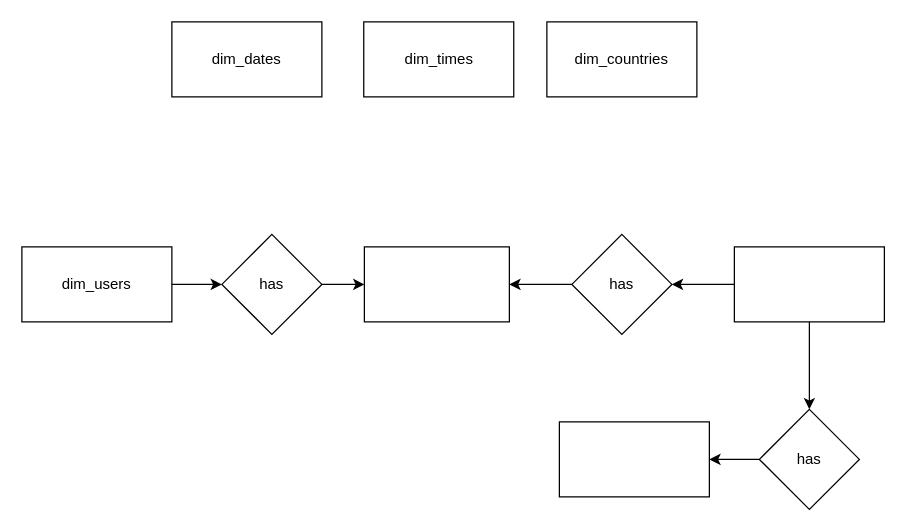
This 906x531 diagram has some shape labels left out. Here are the shapes that lost their labels. From the top down, the centre of each, then its label:
At (436,284): "fact_jobStatus".
At (808,284): "dim_jobs".
At (633,459): "dim_files".
